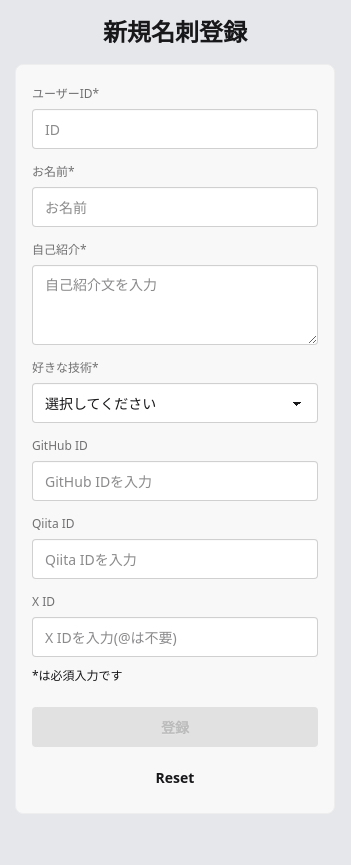
新規登録ページ › qiitaIdに日本語を入力するとエラーが表示される
Type "あいうえお" into the field with placeholder "Qiita IDを入力" at (175, 559), box [32, 539, 318, 579]
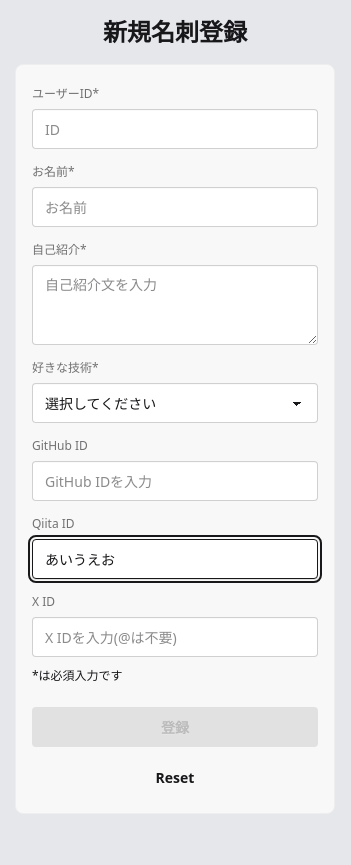
Press Tab
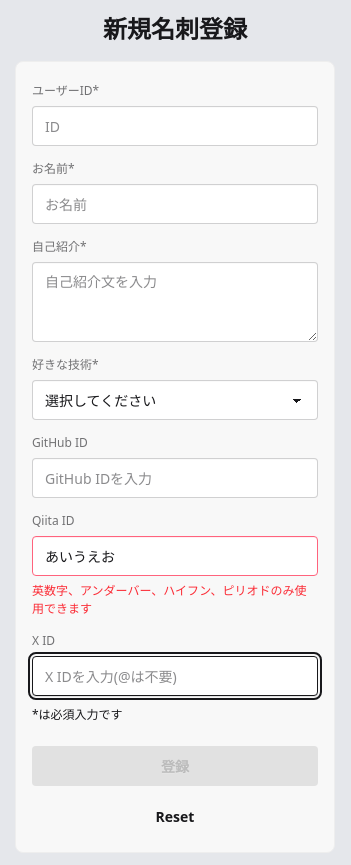
Check: the text "英数字、アンダーバー、ハイフン、ピリオドのみ使用できます" is shown, box [32, 582, 318, 618]
